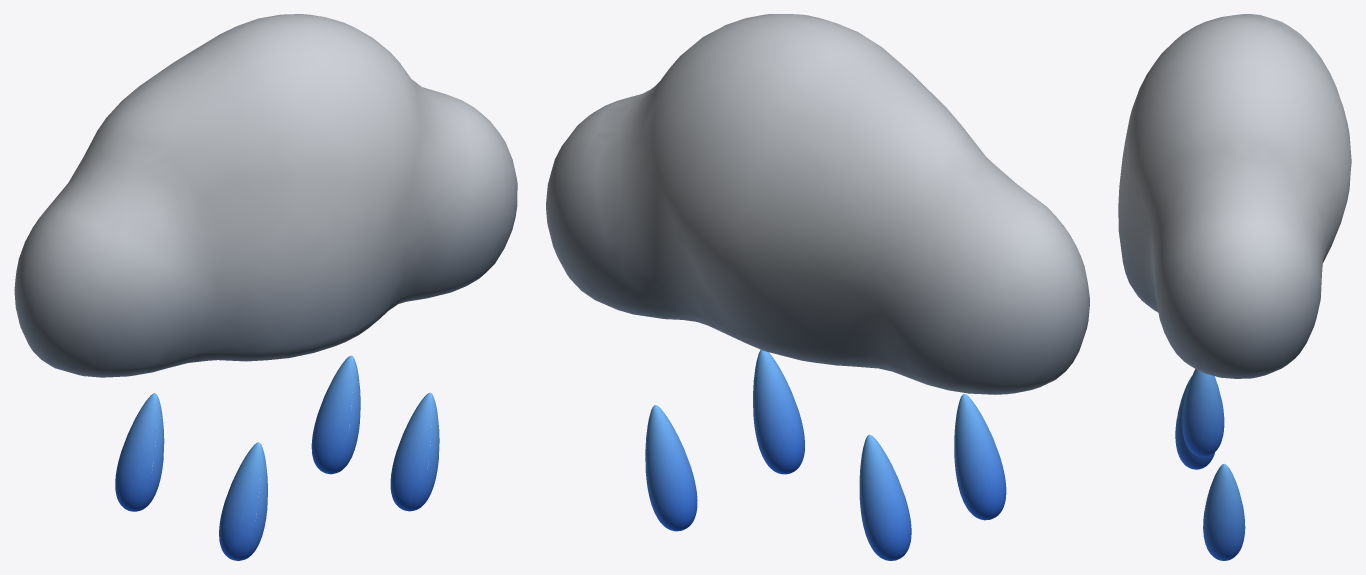
The model's file is rain.glb.
The picture shows the model from 3 angles, left to right: view 1: azimuth 30°, elevation 25°; view 2: azimuth 150°, elevation 25°; view 3: azimuth 270°, elevation 25°; orthographic projection. The views are drawn at different scales.
Parts seen in each view (by area): view 1: cloud, raindrop; view 2: cloud, raindrop; view 3: cloud, raindrop.
Boxes of the visible parts, x1=… form: cloud: x1=14, y1=14, x2=517, y2=377; raindrop: x1=115, y1=355, x2=439, y2=560; cloud: x1=546, y1=14, x2=1089, y2=394; raindrop: x1=645, y1=350, x2=1006, y2=560; cloud: x1=1118, y1=14, x2=1351, y2=378; raindrop: x1=1175, y1=369, x2=1245, y2=560.
Size of the model in its own units: 1.52 by 1.51 by 0.6727.
